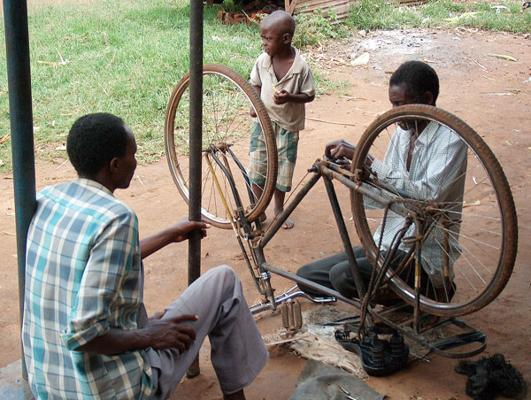person: (291, 58, 472, 305)
